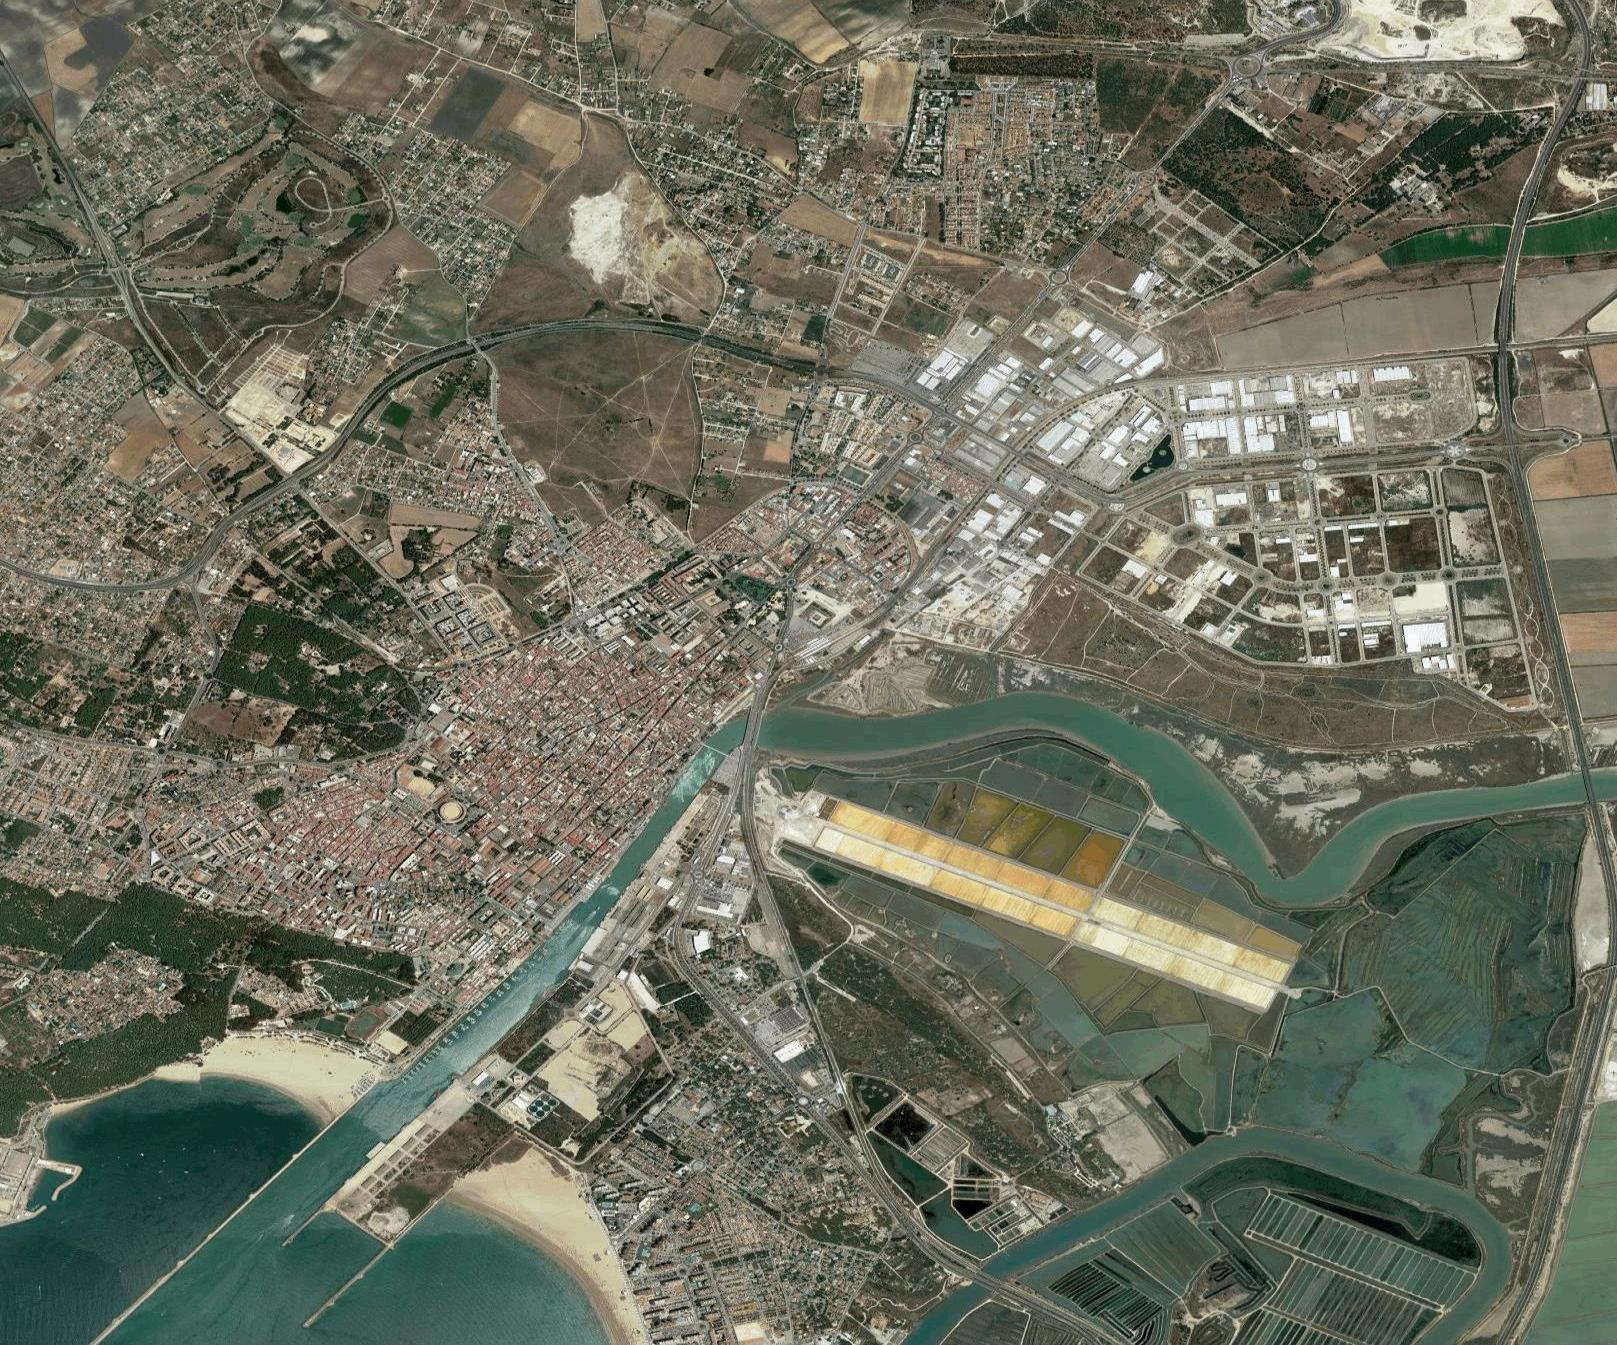industrial: (959, 374, 1467, 664)
motorway: (1479, 1057, 1597, 1345), (1530, 812, 1617, 1059), (1518, 562, 1604, 810), (1480, 306, 1544, 562), (1479, 124, 1562, 306), (713, 322, 877, 403), (395, 306, 548, 392), (864, 1152, 970, 1272), (171, 474, 281, 589), (283, 371, 394, 485), (970, 1260, 1116, 1345), (1515, 1, 1601, 124), (551, 296, 714, 359), (804, 1020, 882, 1149), (1, 552, 173, 610), (756, 881, 819, 1023), (727, 736, 788, 877), (864, 543, 951, 636), (731, 662, 786, 736)
train_station: (783, 623, 856, 670)
